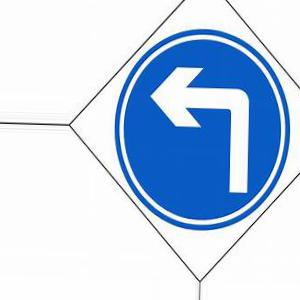left: (115, 27, 292, 232)
